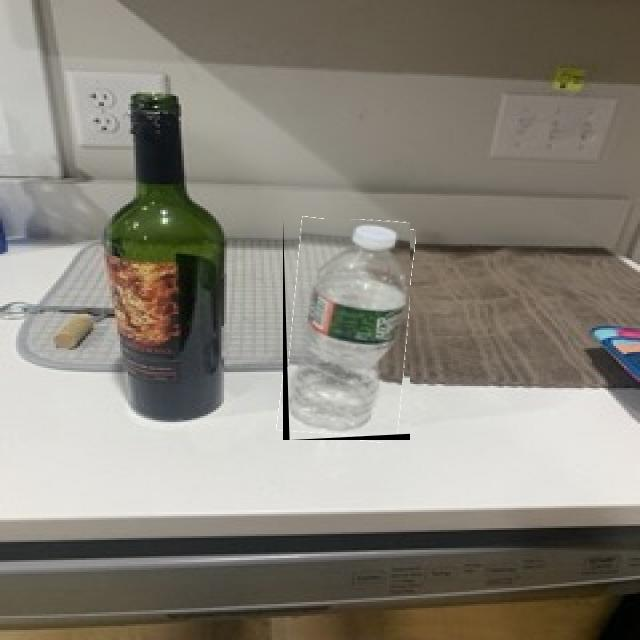water_bottle: (283, 219, 410, 440)
